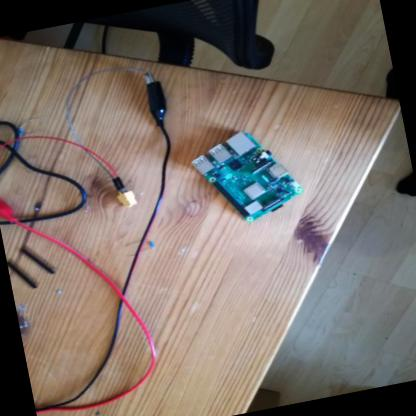Raspberry_Pi_3: (185, 119, 309, 233)
